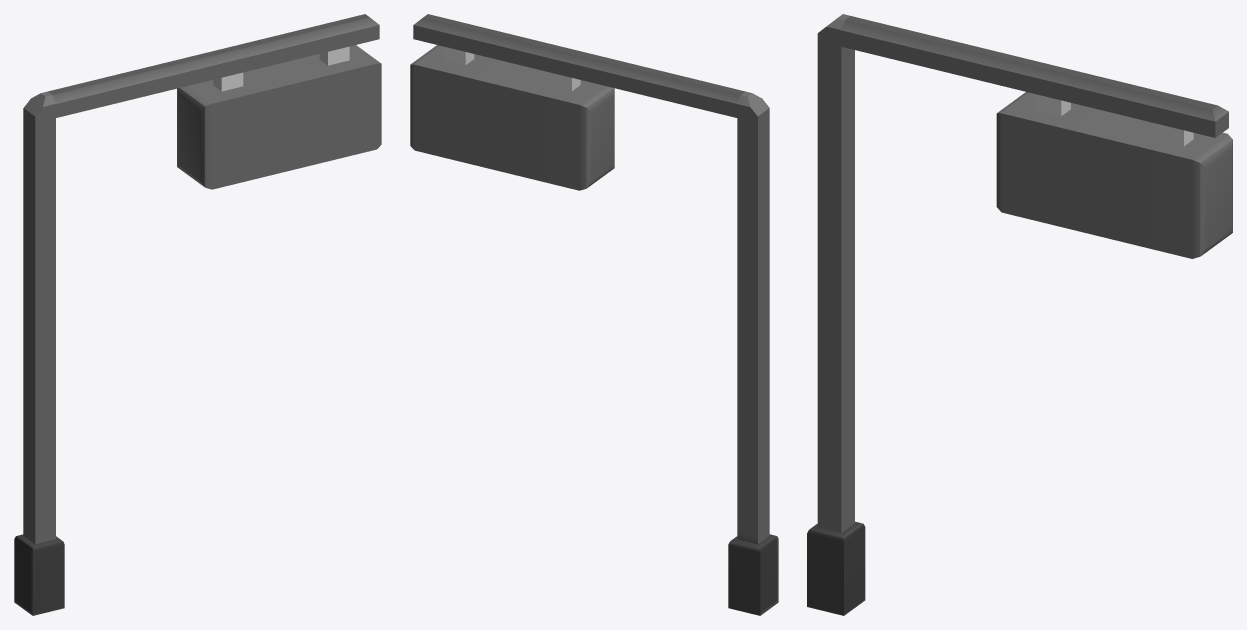
File: TrafficLight_02.fbx
3 renders of one model, left to right at view 1: azimuth 30°, elevation 25°; view 2: azimuth 150°, elevation 25°; view 3: azimuth 330°, elevation 25°, orthographic. The views are drawn at different scales.
Parts seen in each view (by area): view 1: polySurface976; view 2: polySurface976; view 3: polySurface976.
Boxes of the visible parts, x1=… form: polySurface976: x1=14, y1=14, x2=381, y2=615; polySurface976: x1=410, y1=14, x2=778, y2=615; polySurface976: x1=807, y1=14, x2=1232, y2=615.
Size of the model in its own units: 2.57 by 3.57 by 0.3912.
